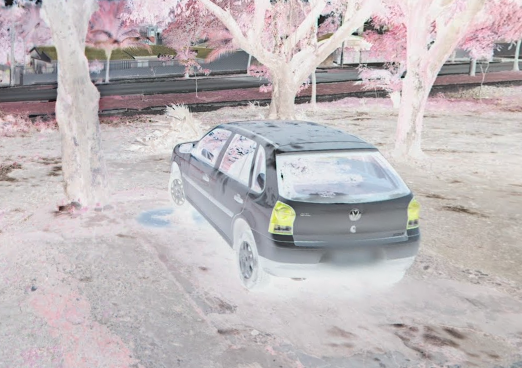car: (165, 113, 422, 295)
